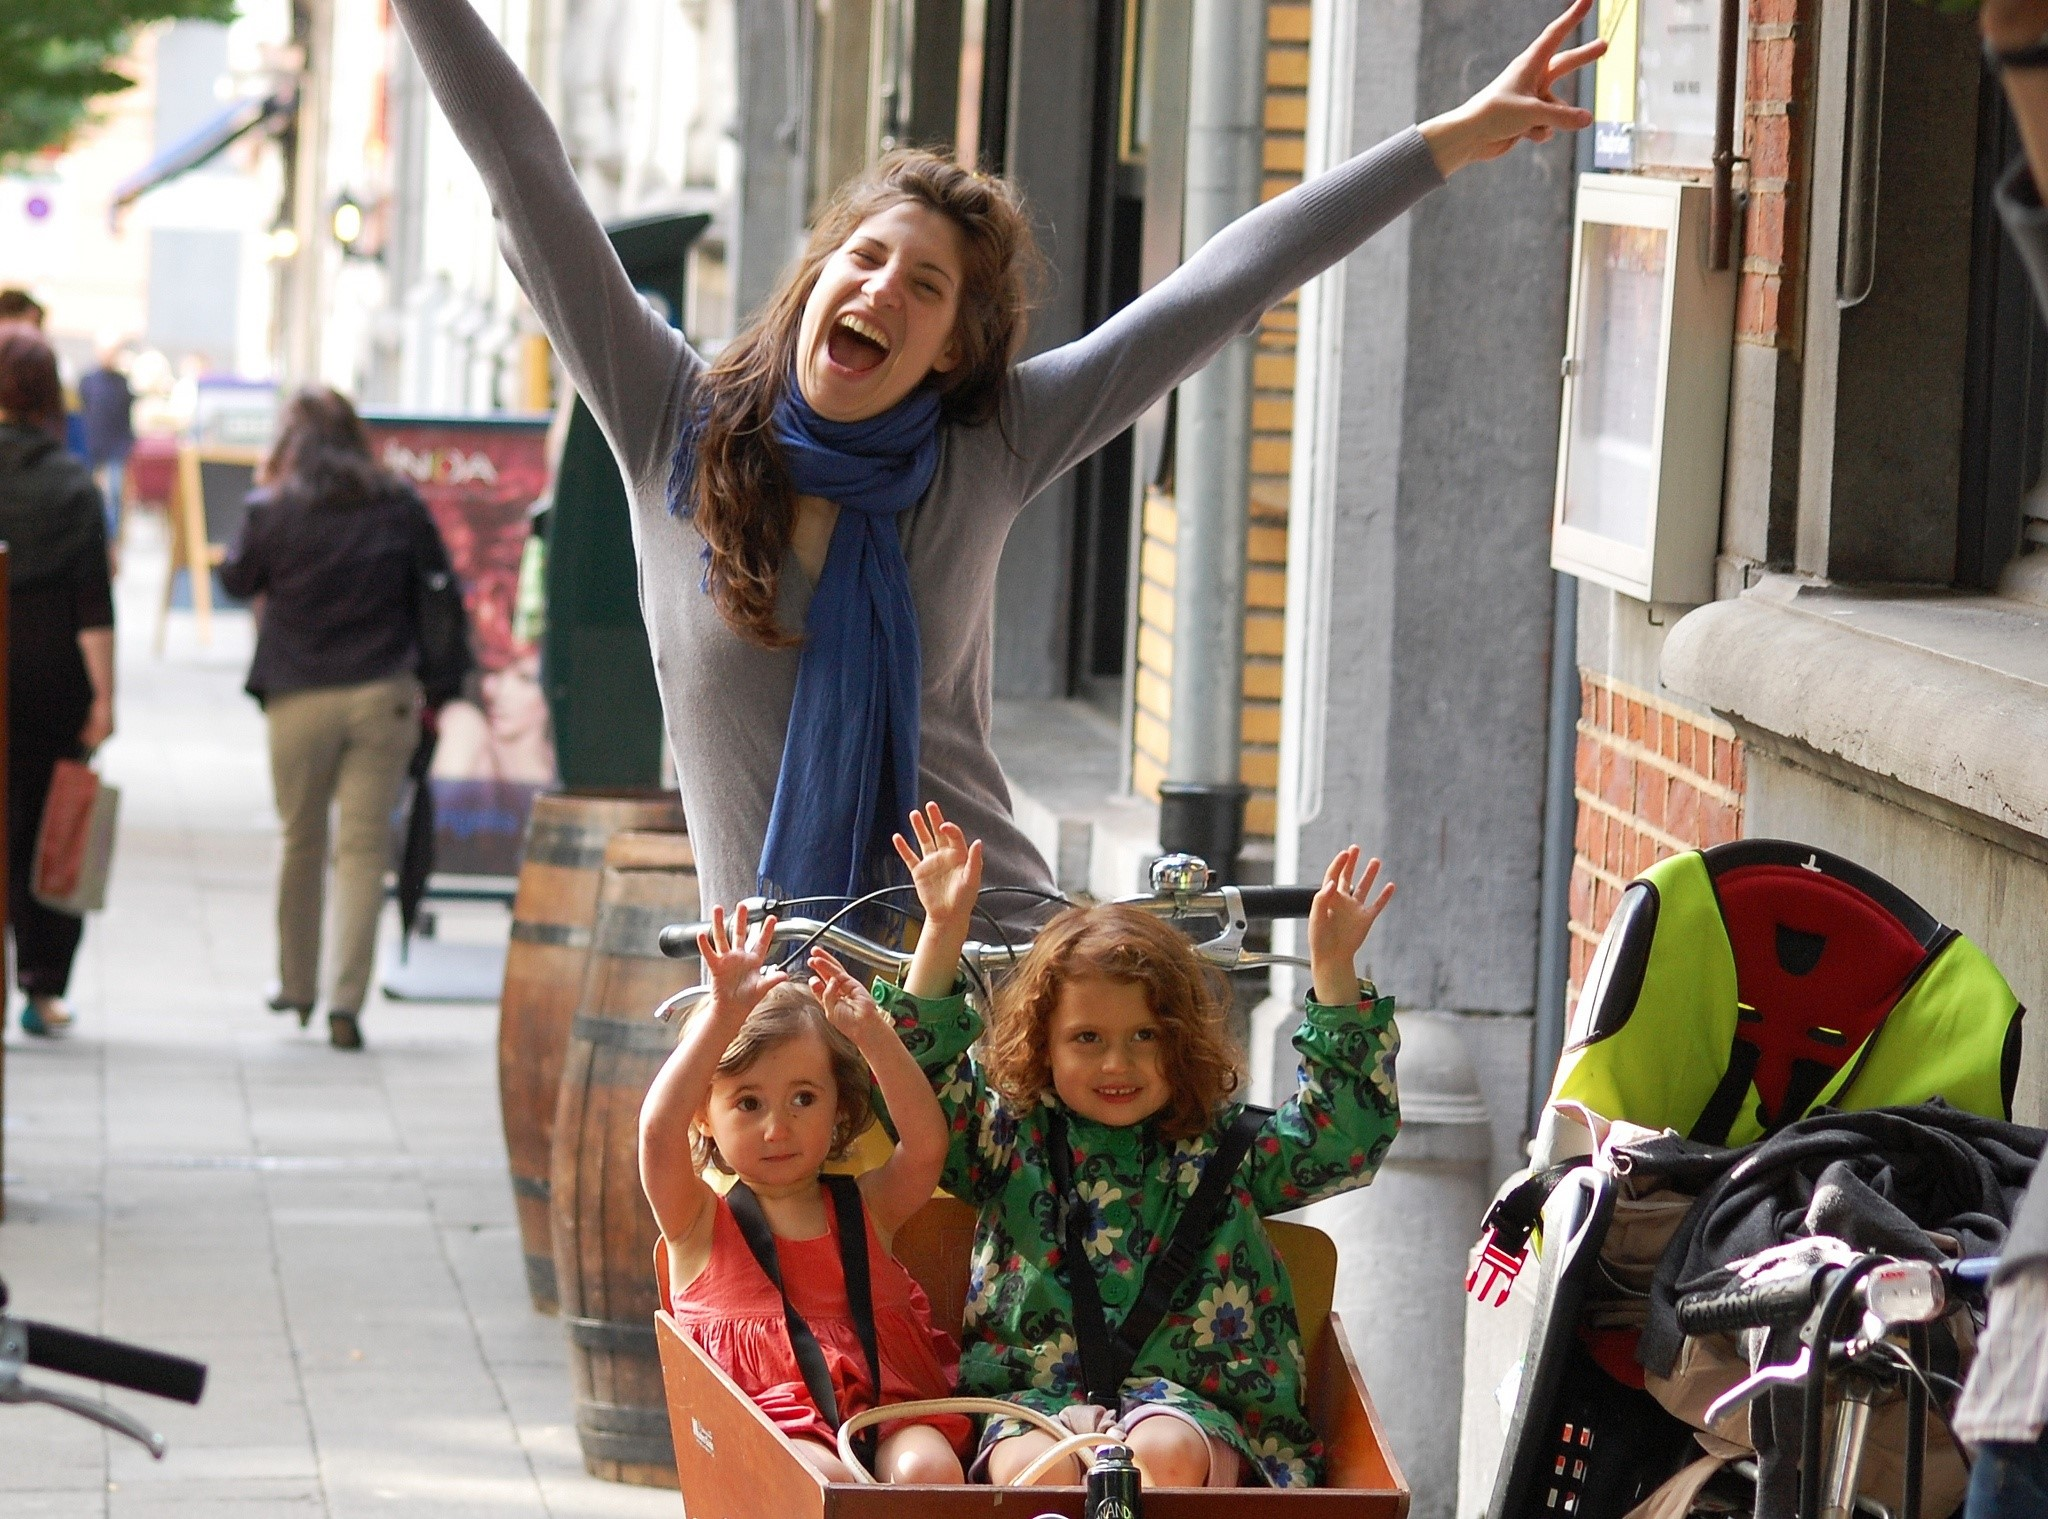face_no_mask: (778, 151, 1021, 418), (993, 906, 1227, 1121), (696, 990, 875, 1189)
